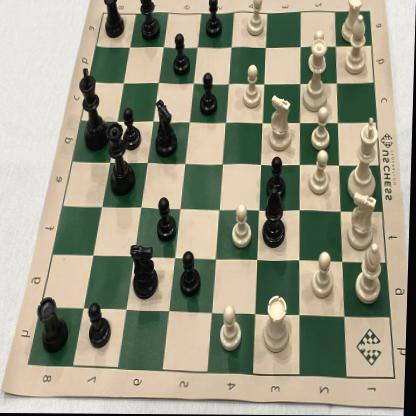black-bishop: (261, 186, 291, 250), (138, 0, 162, 44)
black-king: (76, 66, 110, 152)
black-knight: (130, 242, 161, 301), (154, 97, 181, 161)
black-pawn: (89, 301, 118, 351), (156, 194, 182, 246), (180, 248, 204, 298), (198, 70, 220, 119), (122, 106, 144, 154), (268, 155, 290, 202), (172, 32, 192, 80), (202, 0, 224, 41)
black-queen: (107, 124, 138, 204)
black-rook: (38, 295, 74, 355), (99, 0, 127, 41)
white-bishop: (354, 243, 386, 305), (344, 14, 370, 76)
white-king: (348, 115, 382, 202)
white-knight: (346, 191, 380, 251), (267, 94, 294, 152)
white-pawn: (310, 250, 338, 301), (221, 304, 248, 356), (309, 147, 334, 197), (231, 201, 254, 251), (241, 61, 264, 110), (310, 106, 332, 154), (306, 30, 329, 74), (245, 0, 268, 39)
white-queen: (300, 39, 332, 114)
white-rook: (264, 292, 294, 356), (340, 0, 365, 45)
